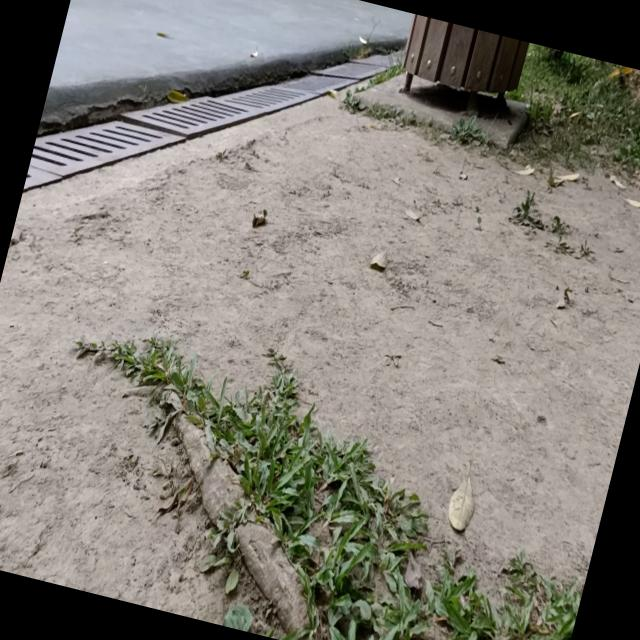grass: (108, 338, 582, 640)
white-sand: (0, 92, 640, 625)
